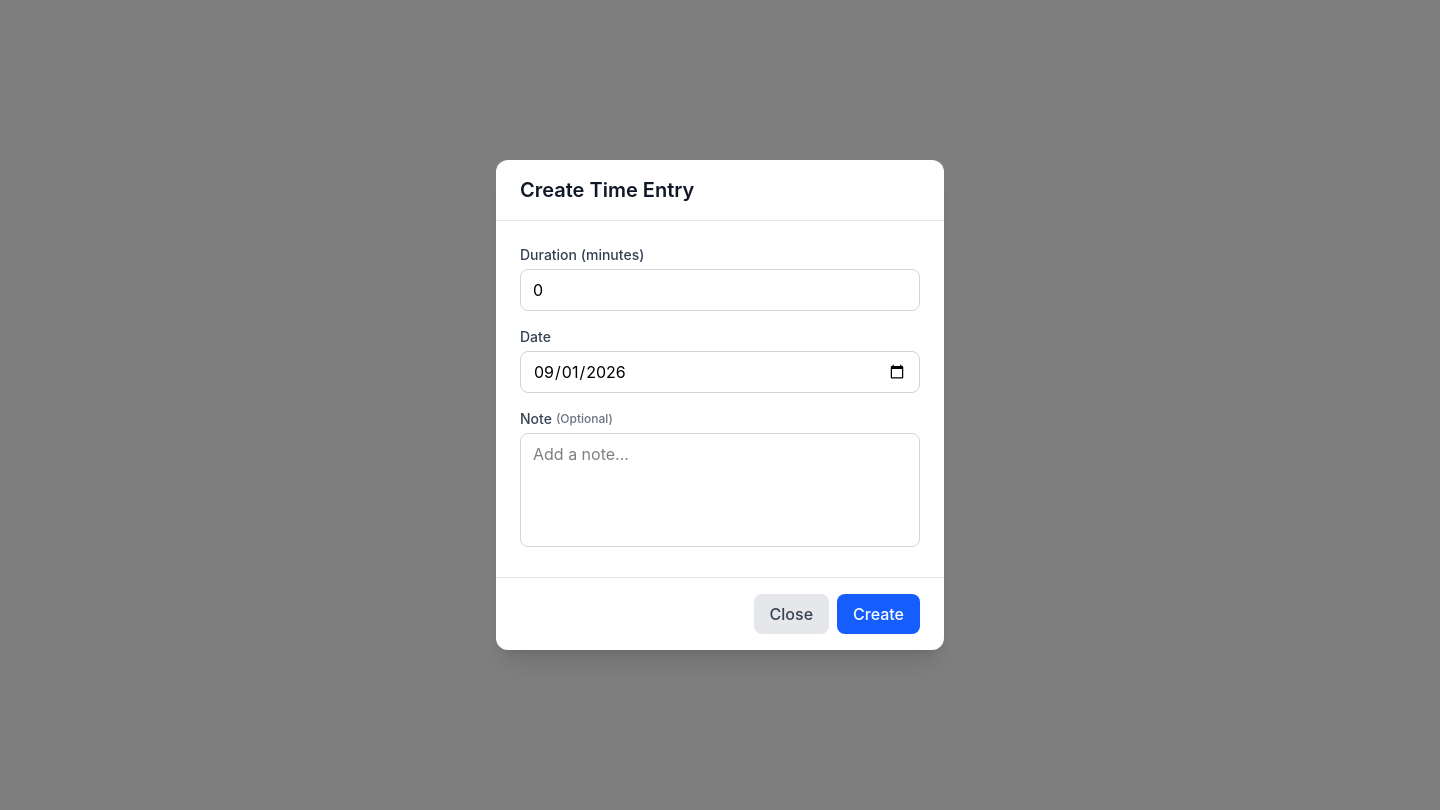
Scenario: TimeEntryManageModal › validation › should reject a future date
Replace the text in the number field with "60" at (720, 290), box [520,269,920,311]
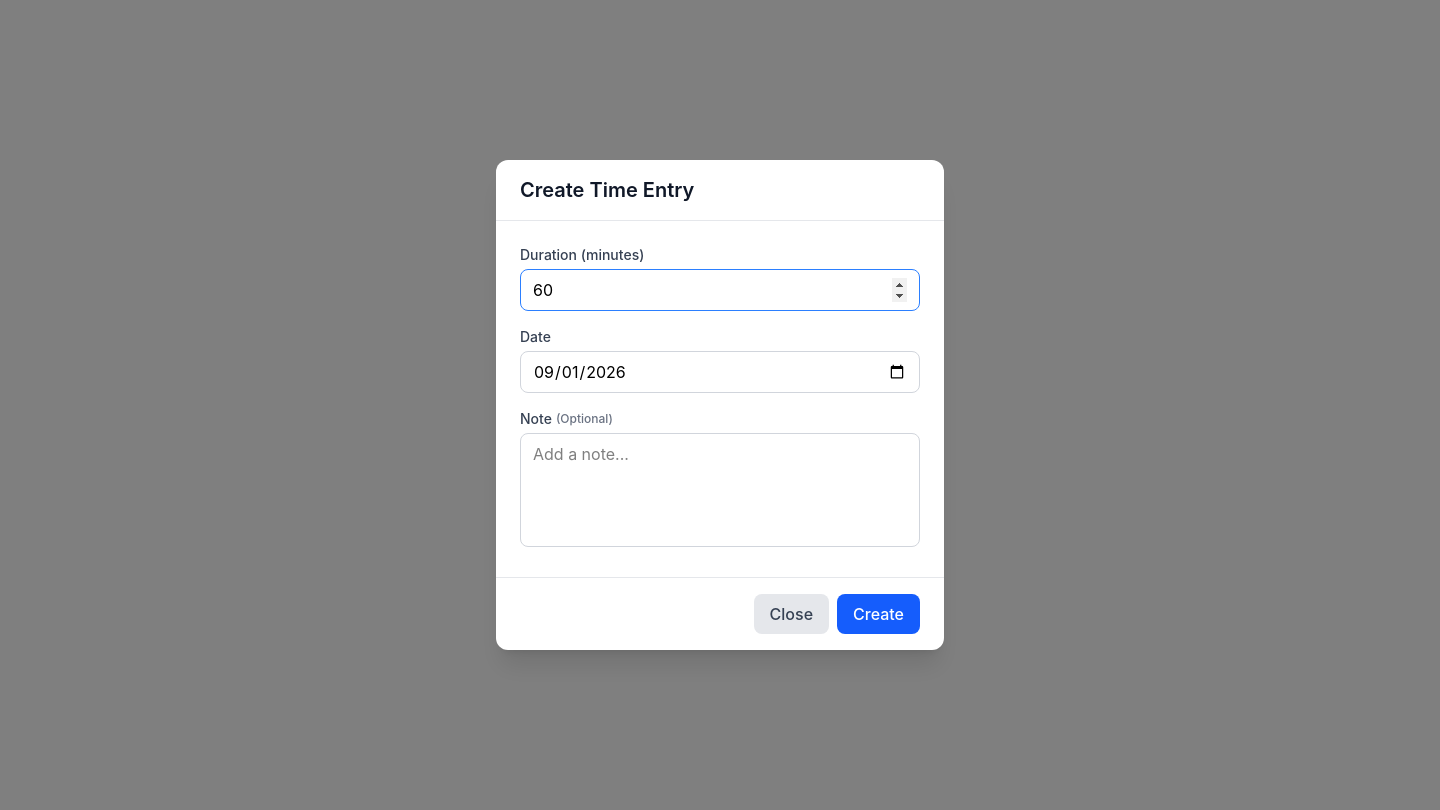
Type "2099-01-01" into the date field at (720, 372), box [520,351,920,393]
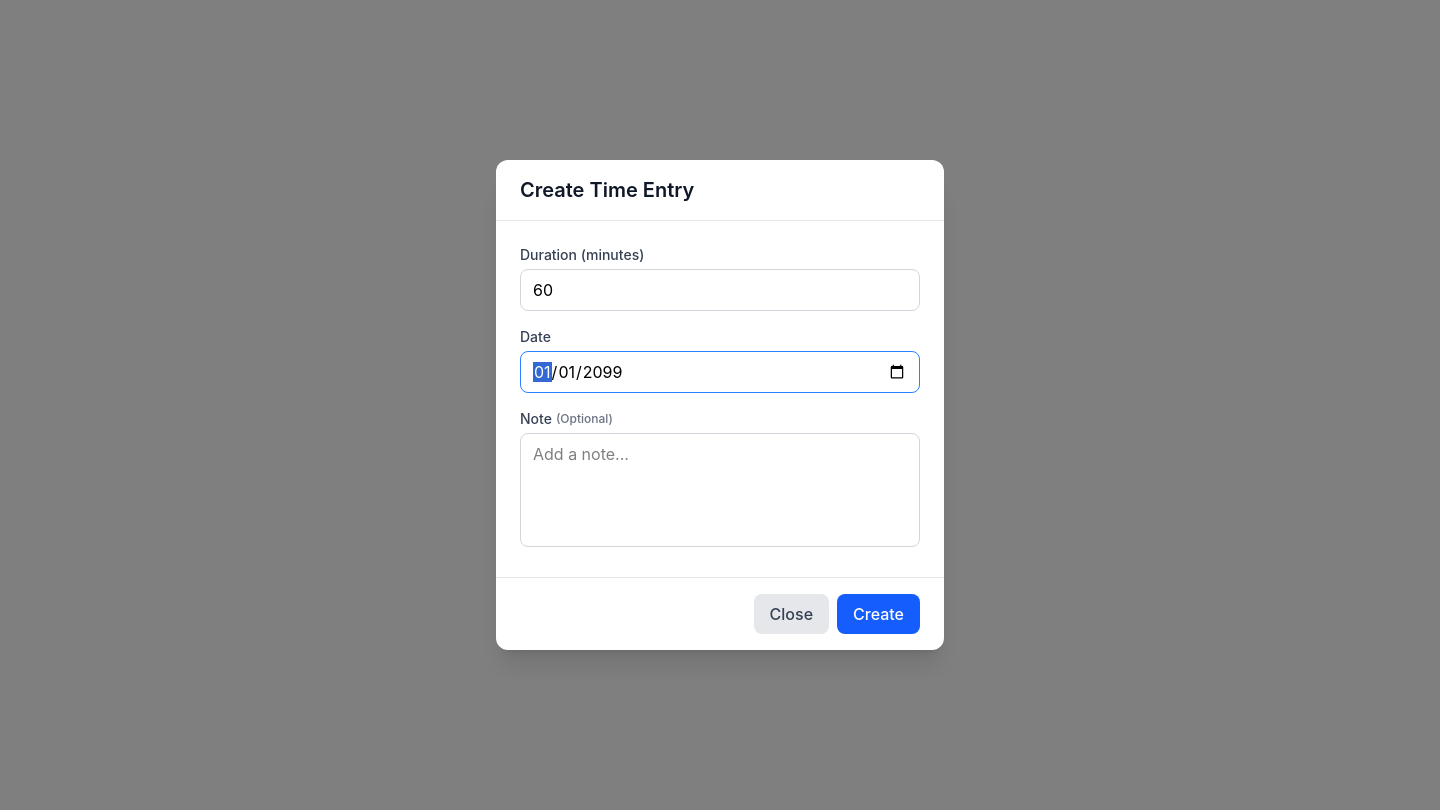
Click the button "Create" at (878, 614), box [837,594,920,634]
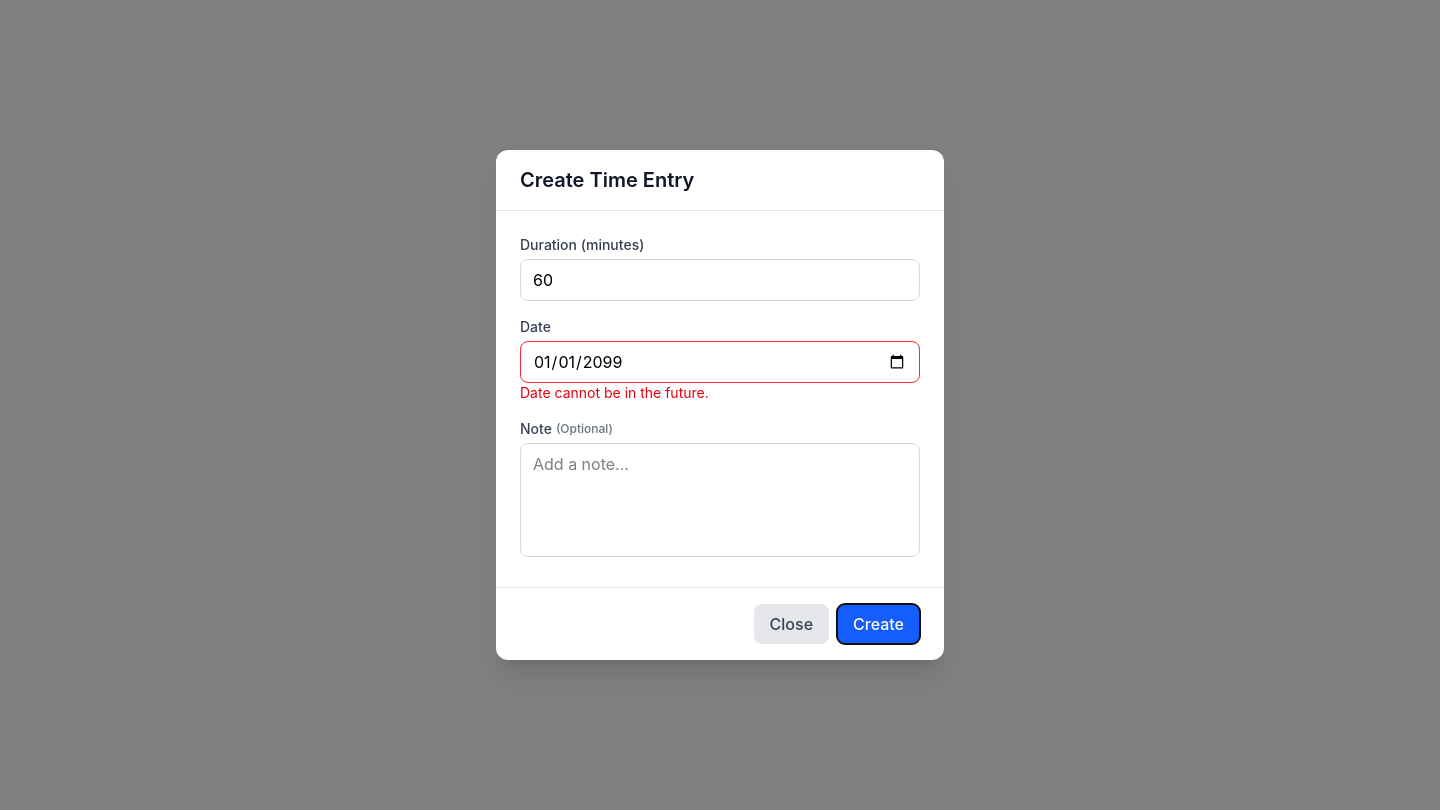
Expected: the text "Date cannot be in the future." is shown, [520,384,709,401]
